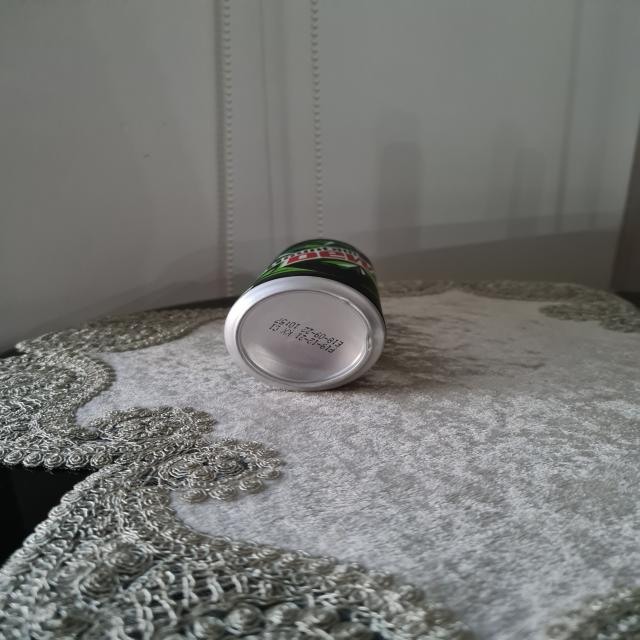non-organic waste: (225, 235, 386, 394)
